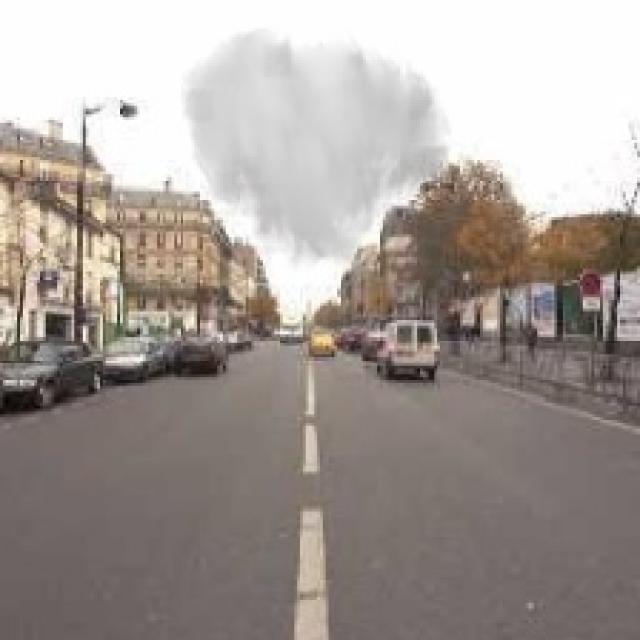Smoke: (177, 26, 454, 278)
